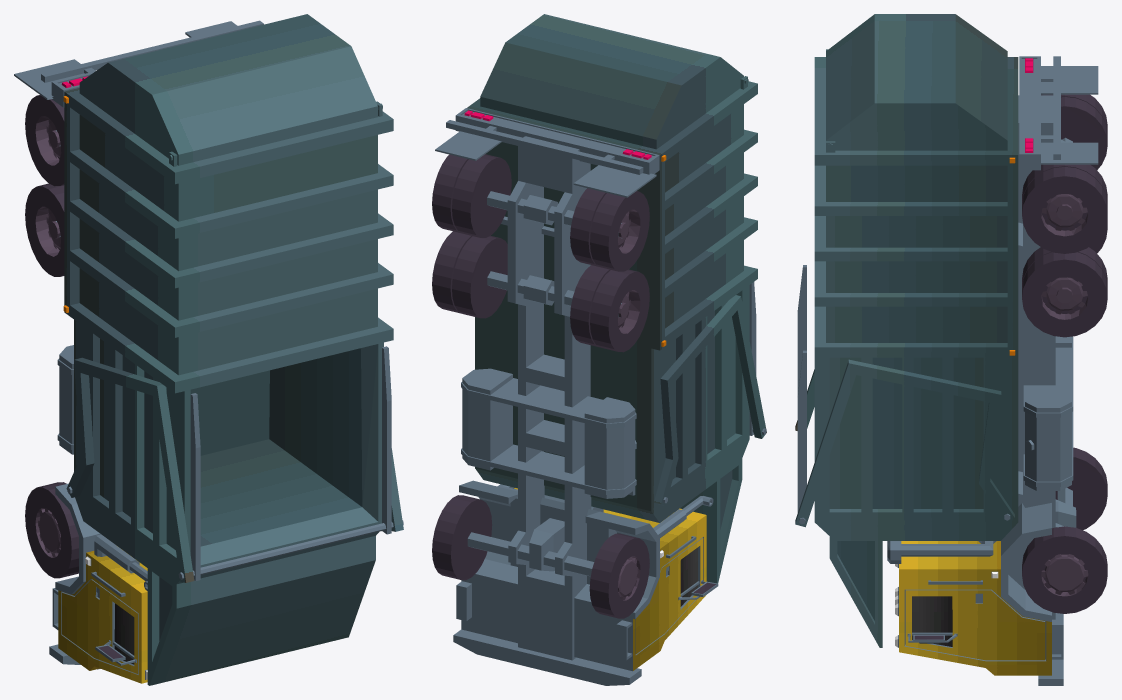
File: 198_trashTruck.gltf
The picture shows the model from 3 angles, left to right: view 1: azimuth 30°, elevation 25°; view 2: azimuth 150°, elevation 25°; view 3: azimuth 270°, elevation 25°; orthographic projection. The views are drawn at different scales.
Parts seen in each view (by area): view 1: trashTruck; view 2: trashTruck; view 3: trashTruck.
Boxes of the visible parts, <box> form: trashTruck: <box>14,14,403,685</box>; trashTruck: <box>432,14,766,685</box>; trashTruck: <box>795,14,1107,685</box>.
Size of the model in its own units: 3.21 by 8.34 by 4.01.
Materials: 1 (1 with a texture image).
